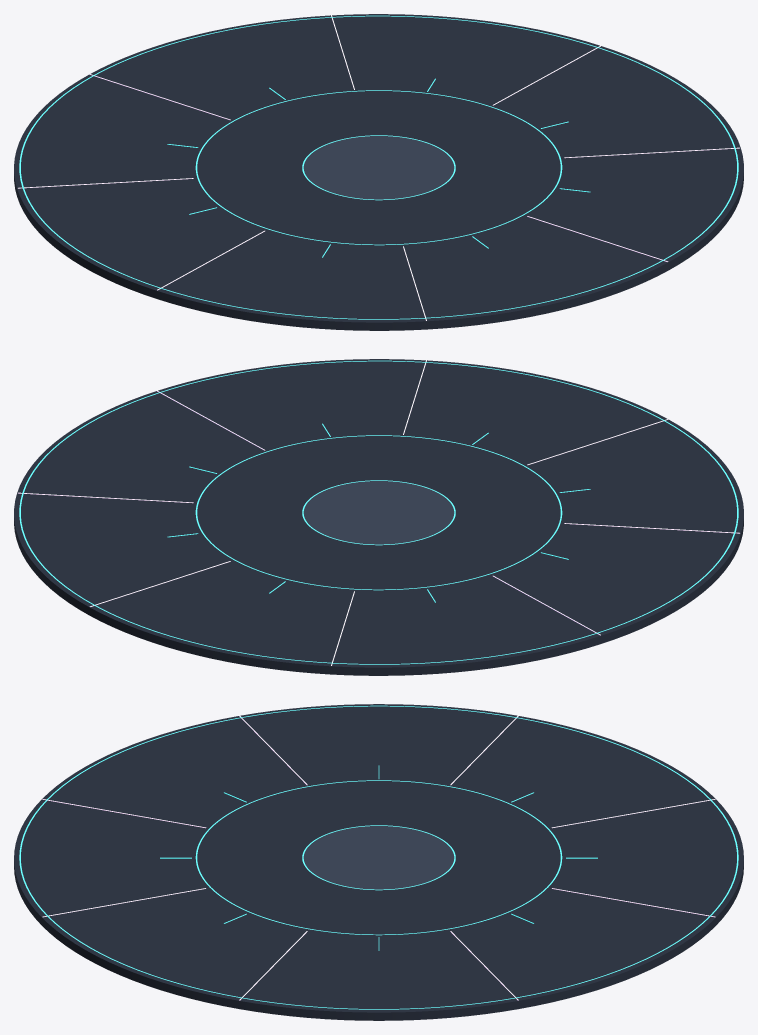
3 renders of one model, top to bottom at view 1: azimuth 30°, elevation 25°; view 2: azimuth 150°, elevation 25°; view 3: azimuth 270°, elevation 25°, orthographic.
Visible parts, largest first — view 1: nexo_floor.lod0; view 2: nexo_floor.lod0; view 3: nexo_floor.lod0.
Boxes of the visible parts, bbox=[...] form: nexo_floor.lod0: bbox=[14, 14, 743, 330]; nexo_floor.lod0: bbox=[14, 359, 743, 675]; nexo_floor.lod0: bbox=[14, 704, 743, 1020].
Bounding box in the file's own units: 48 × 0.6446 × 48.
